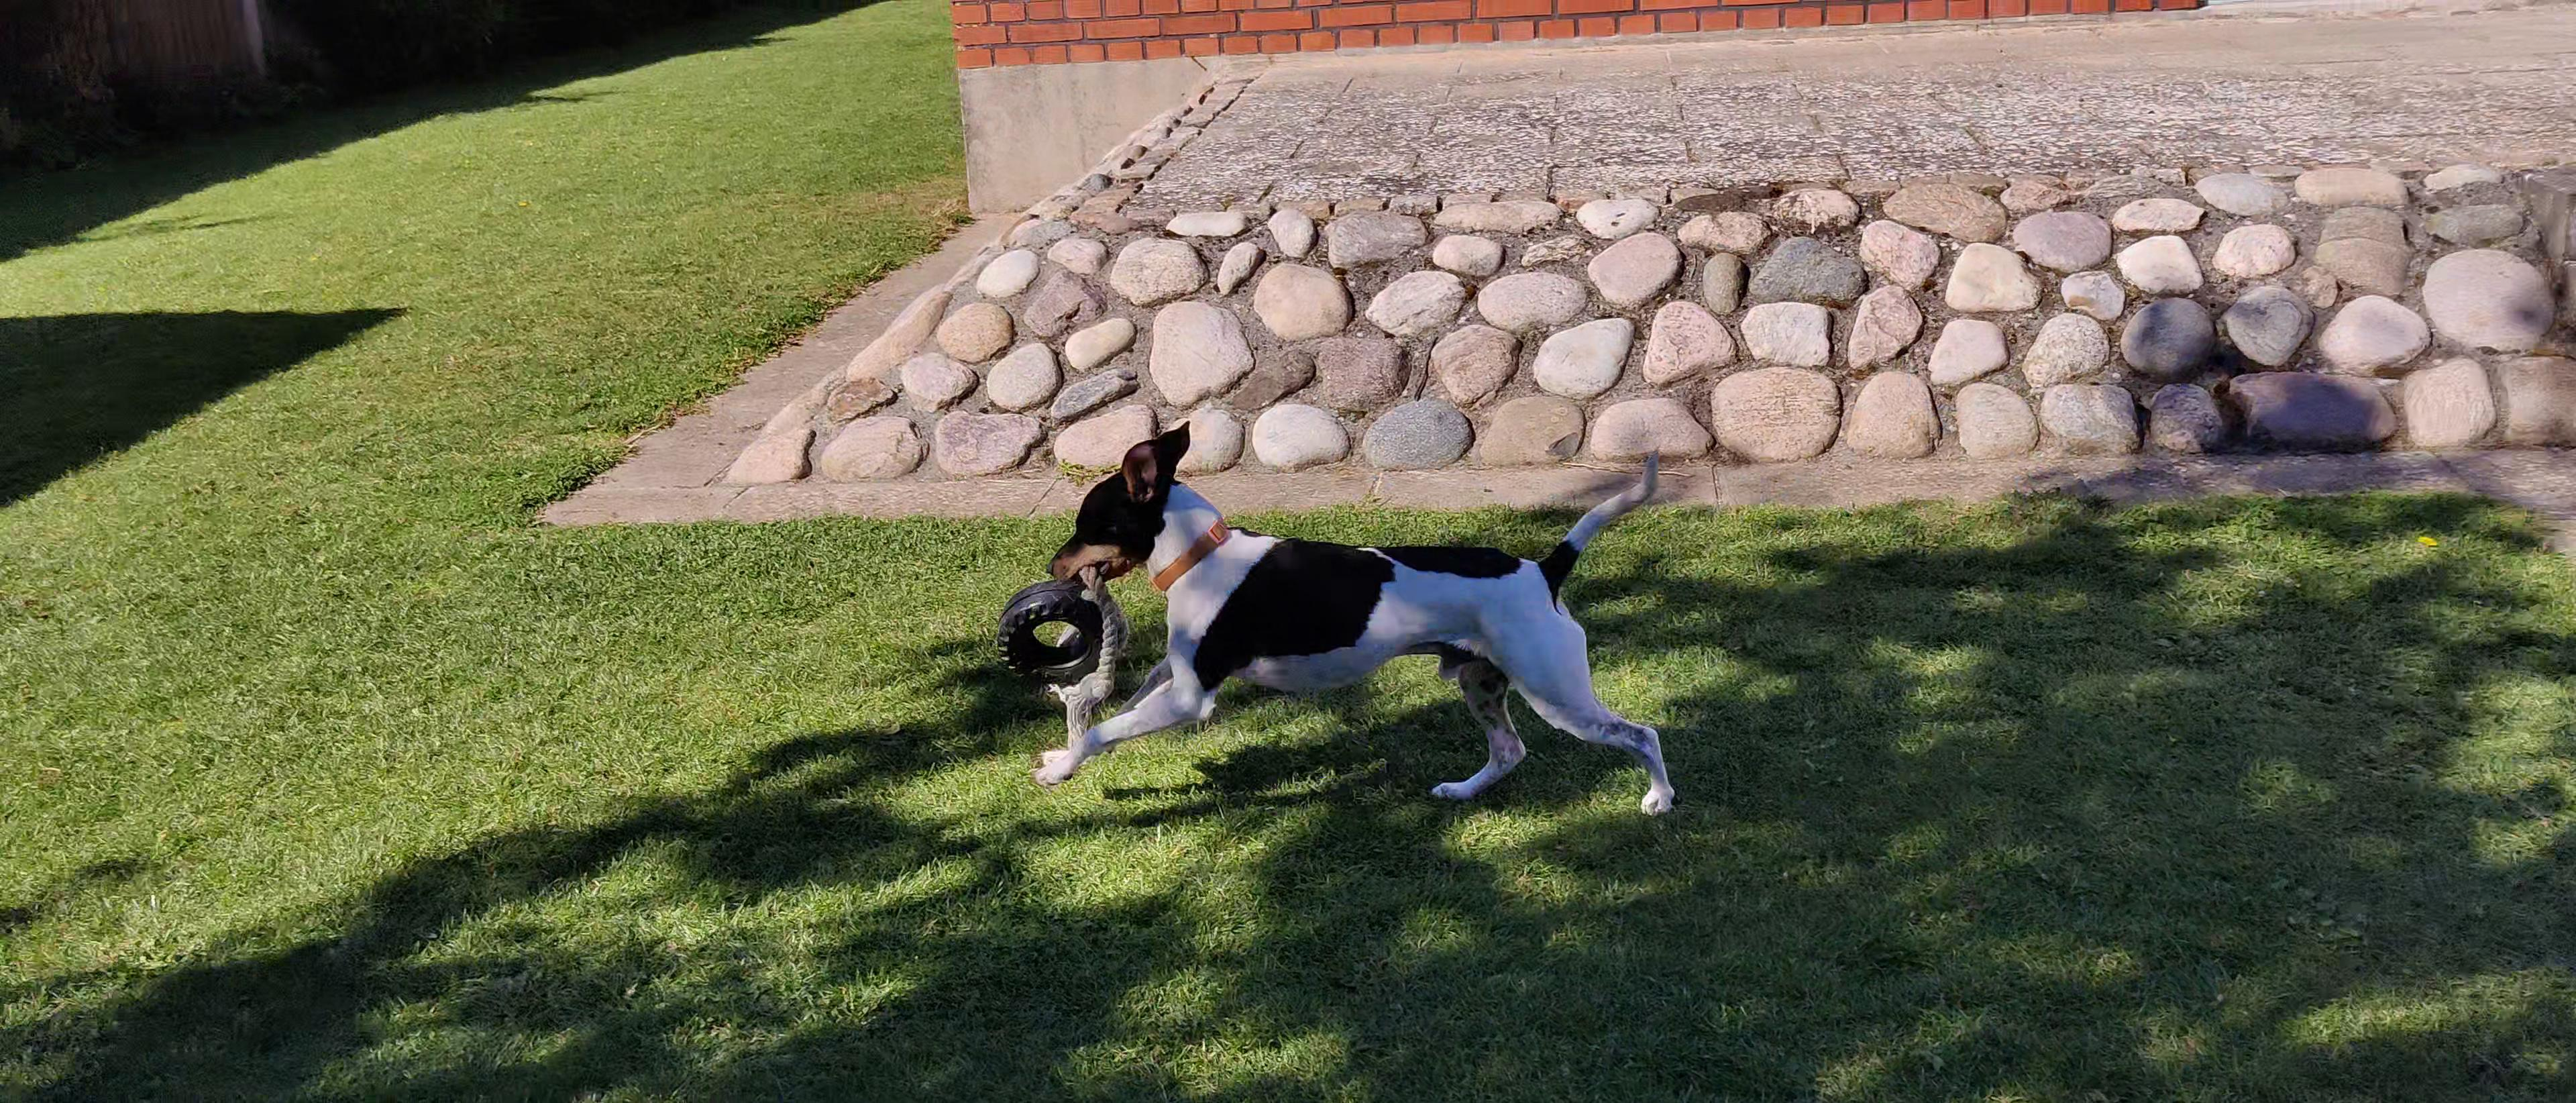Dog: (1025, 409, 1687, 817)
